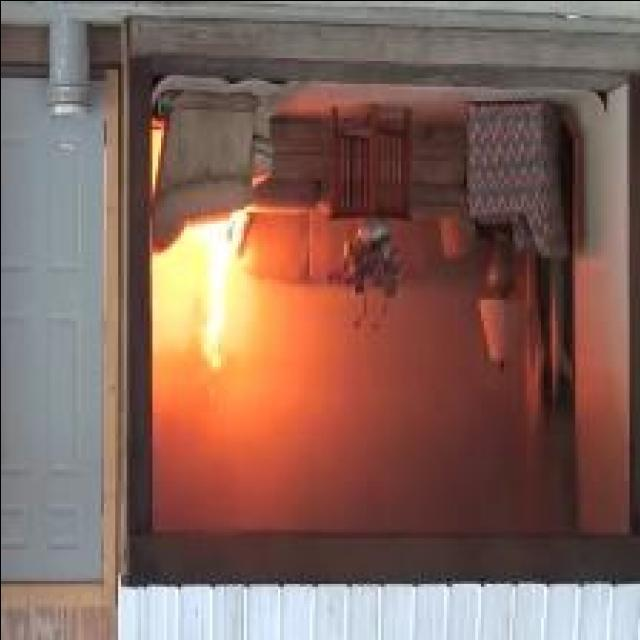Fire: (184, 204, 247, 370)
